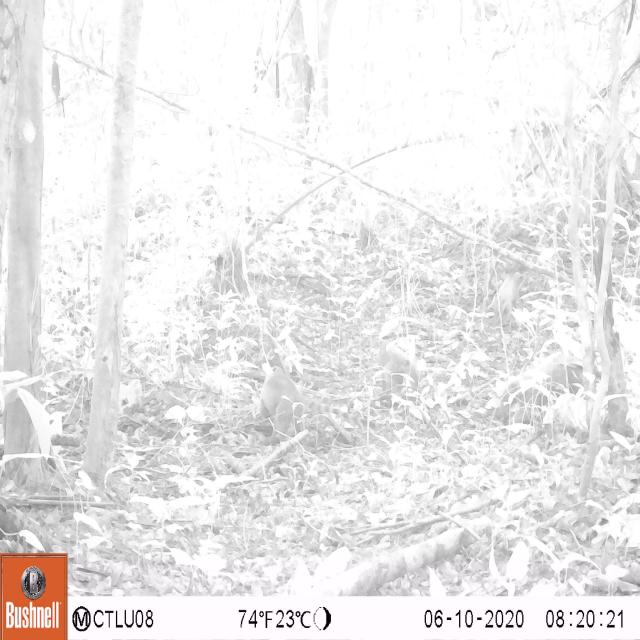Black Agouti: (250, 364, 316, 453)
